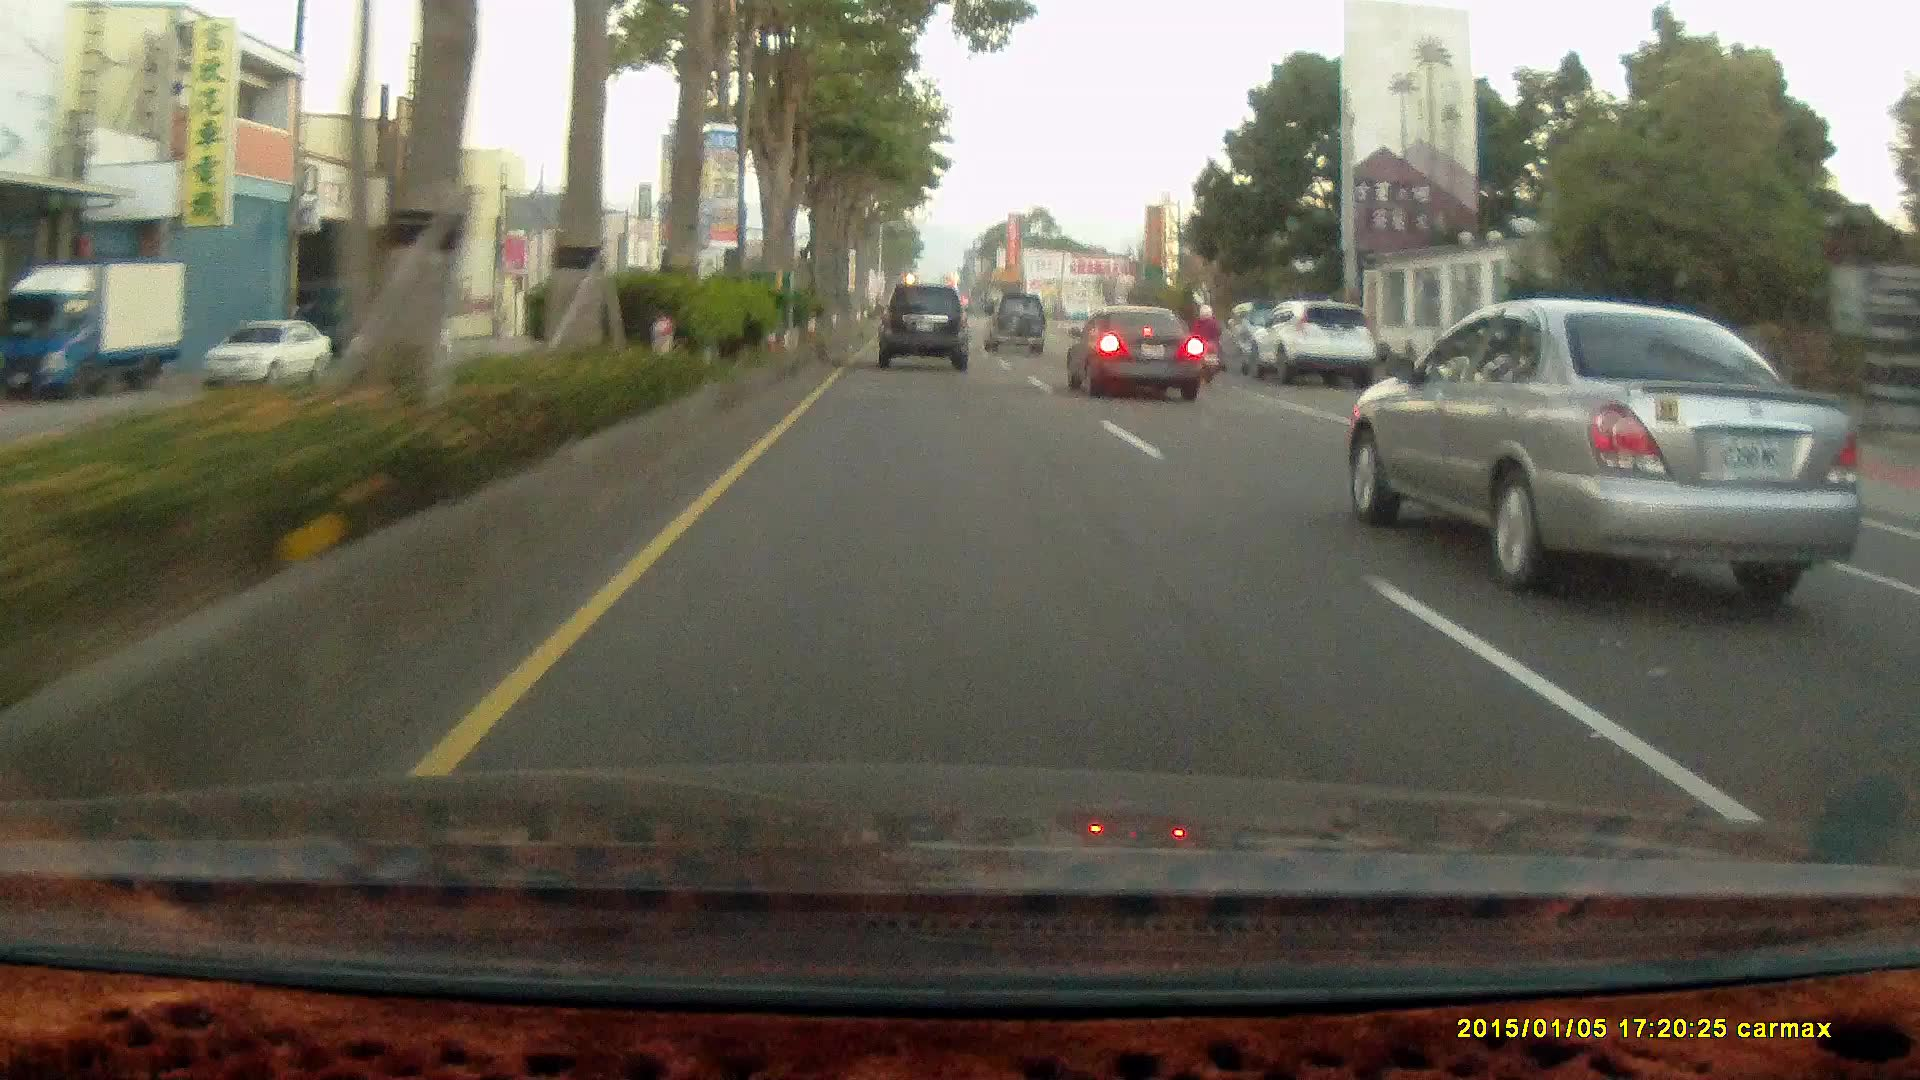rider: (1187, 302, 1224, 382)
vehicle: (1348, 299, 1865, 583), (1, 256, 193, 399), (0, 256, 188, 399), (1067, 305, 1211, 400), (1063, 304, 1204, 399), (1246, 300, 1376, 389), (1258, 304, 1380, 388), (873, 280, 976, 376), (202, 319, 333, 393), (201, 317, 332, 389), (874, 282, 968, 370), (347, 305, 456, 368), (1214, 298, 1299, 371), (984, 292, 1051, 358), (984, 293, 1046, 354)
